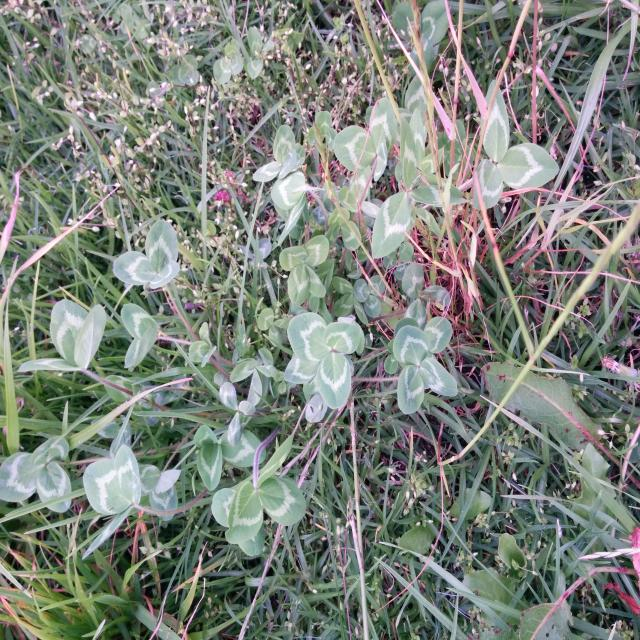Four Leaf Clover: (279, 235, 329, 305)
